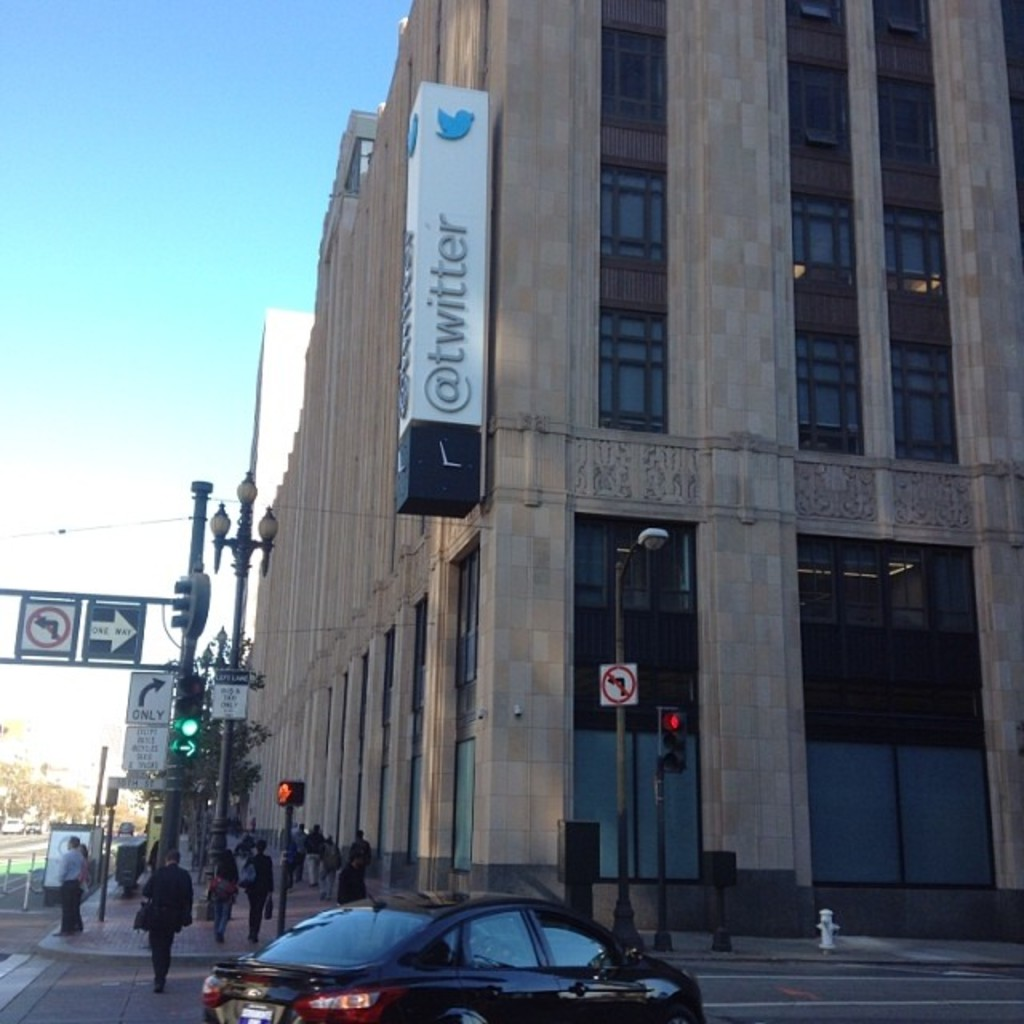mobil: (215, 871, 693, 1024)
